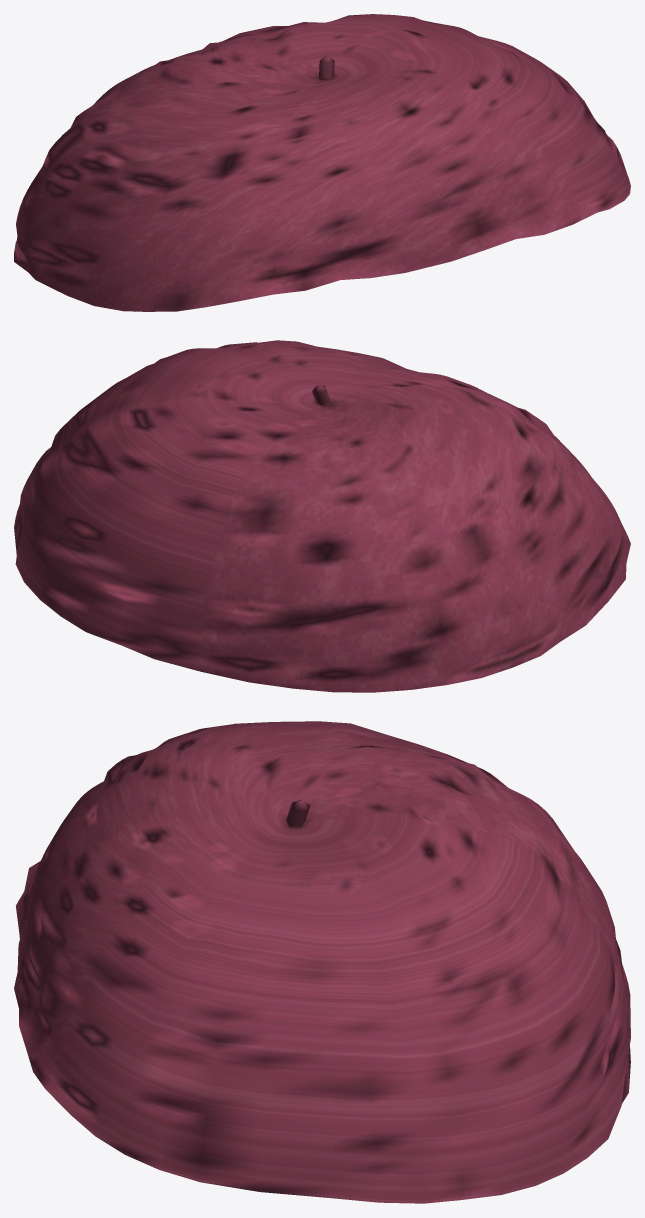
File: beret.glb
3 views of the same model, one above another, from view 1: azimuth 30°, elevation 25°; view 2: azimuth 150°, elevation 25°; view 3: azimuth 270°, elevation 25° (orthographic). The views are drawn at different scales.
Parts seen in each view (by area): view 1: beret_cap; view 2: beret_cap; view 3: beret_cap.
Part boxes in pixels (x1=…): beret_cap: x1=14, y1=14, x2=630, y2=311; beret_cap: x1=14, y1=340, x2=630, y2=692; beret_cap: x1=14, y1=721, x2=630, y2=1203.
Size of the model in its own units: 26.83 by 9.25 by 19.47.
1 material, 1 textured.
